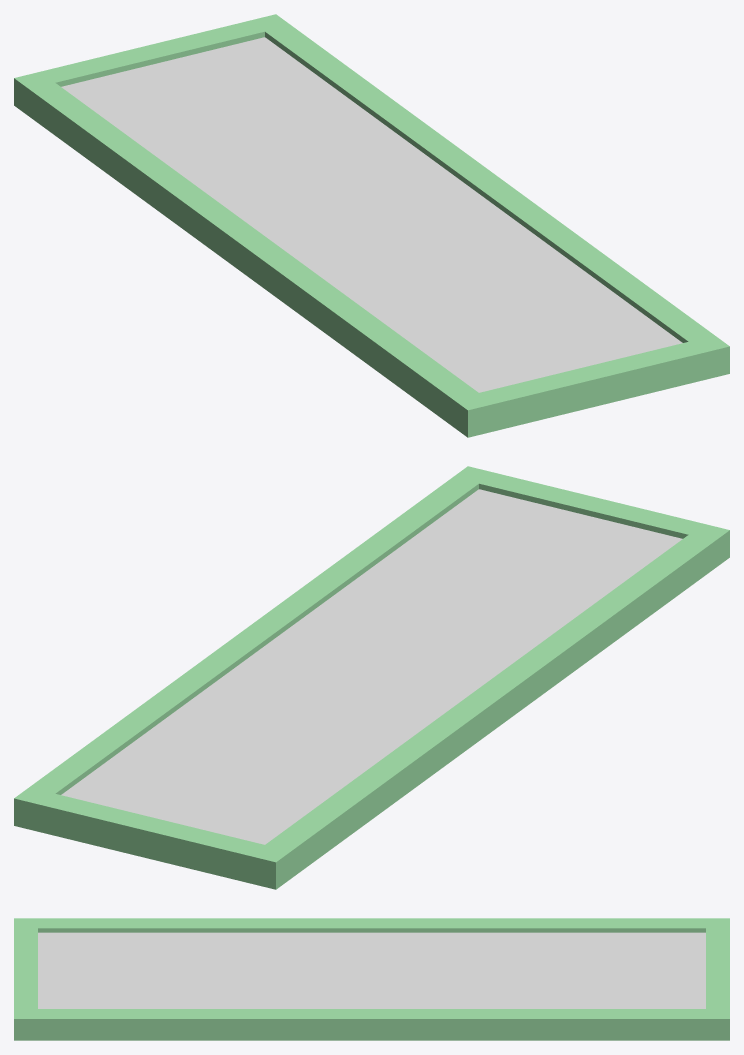
File: Water&Cell1By3Flat.fbx
3 views of the same model, one above another, from view 1: azimuth 30°, elevation 25°; view 2: azimuth 150°, elevation 25°; view 3: azimuth 270°, elevation 25° (orthographic). The views are drawn at different scales.
Visible parts, largest first — view 1: Plane, Support1*3; view 2: Plane, Support1*3; view 3: Plane, Support1*3.
Part boxes in pixels (x1,y1,x2,y2): Plane: (61,37,682,392); Support1*3: (14,14,729,437); Plane: (61,489,682,844); Support1*3: (14,466,729,889); Plane: (38,932,705,1008); Support1*3: (14,918,729,1040).
Size of the model in its own units: 1000 by 100 by 3000.
